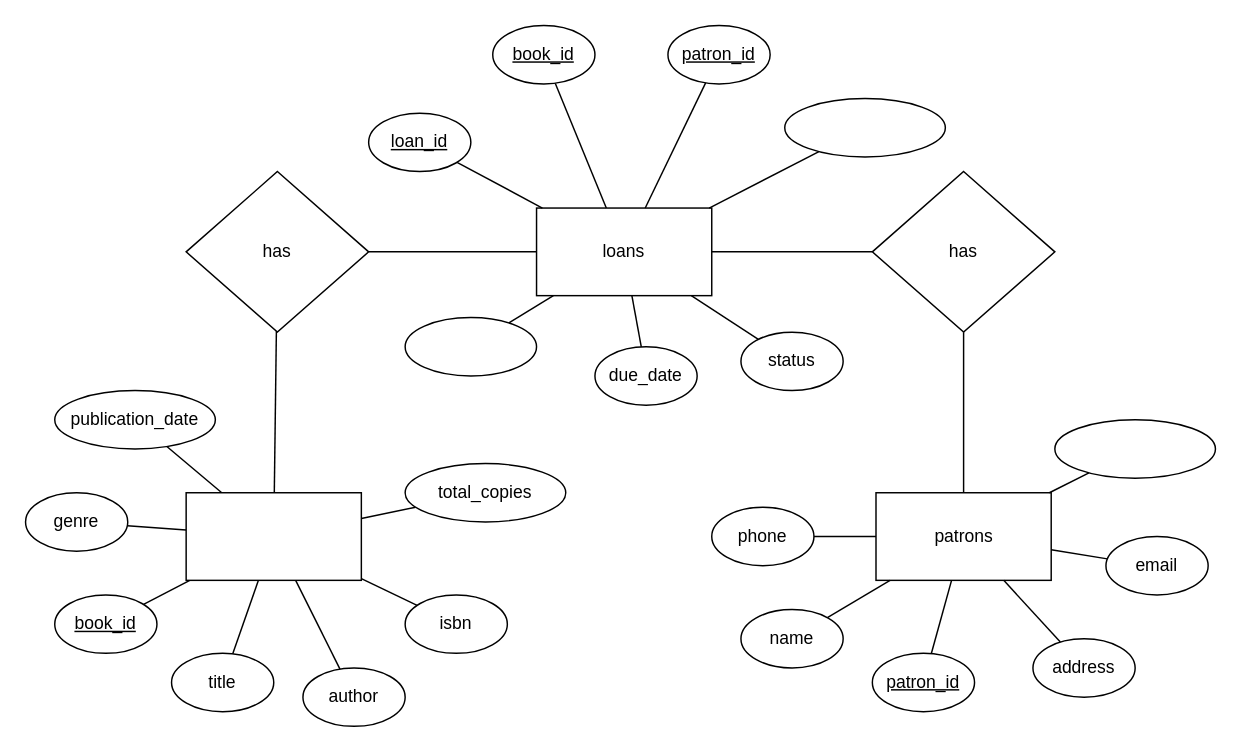
Image size: 1241x752. Some labels were removed from this diagram. The shapes that lost their labels are listed below. From the top down, each one's centre as x and y in pixels, then its label:
At point (864, 127): "loan_timestamp".
At point (470, 346): "return_date".
At point (1134, 448): "membership_date".
At point (273, 535): "books".
